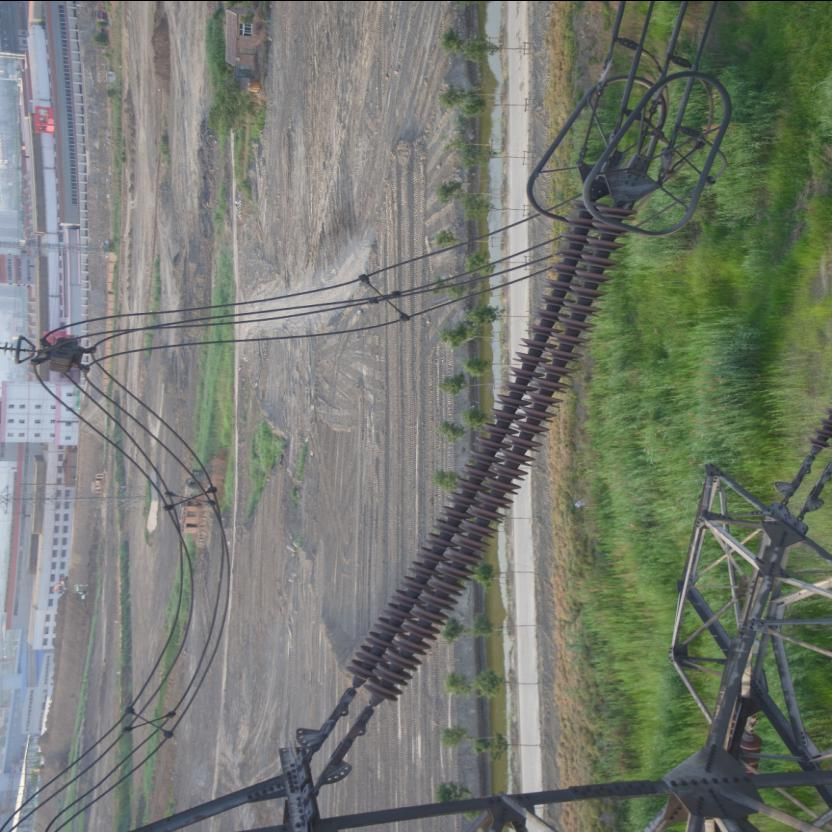insulator: (334, 193, 642, 726)
